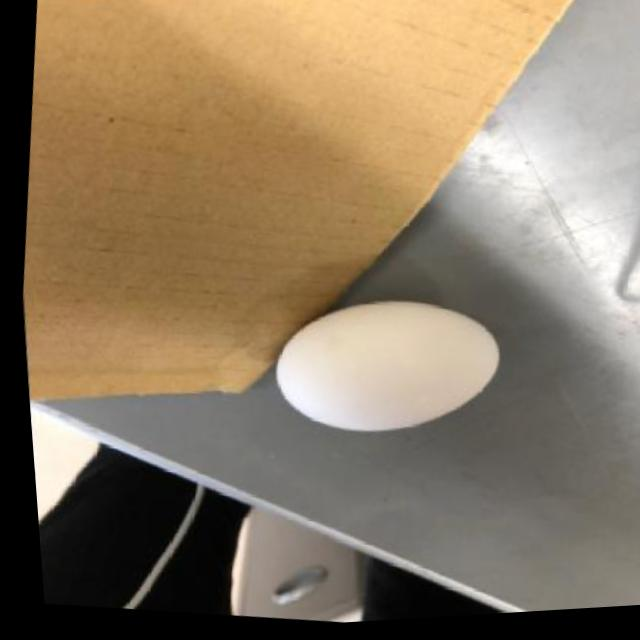egg: (252, 281, 514, 462)
